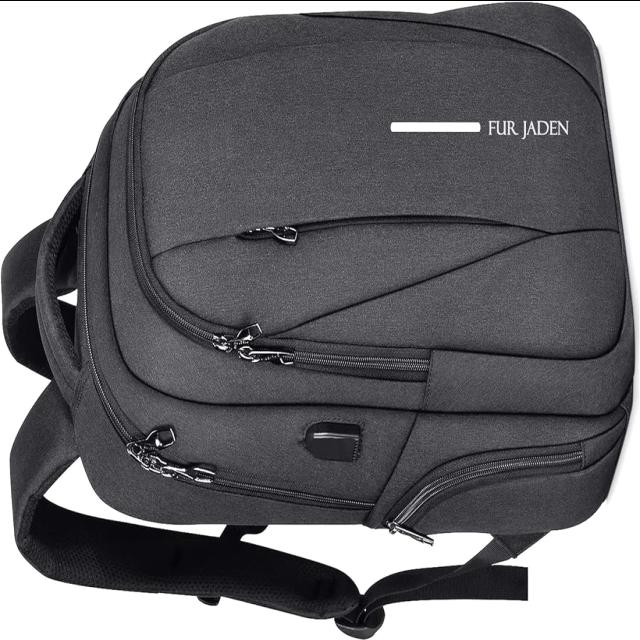backpack: (2, 5, 636, 639)
